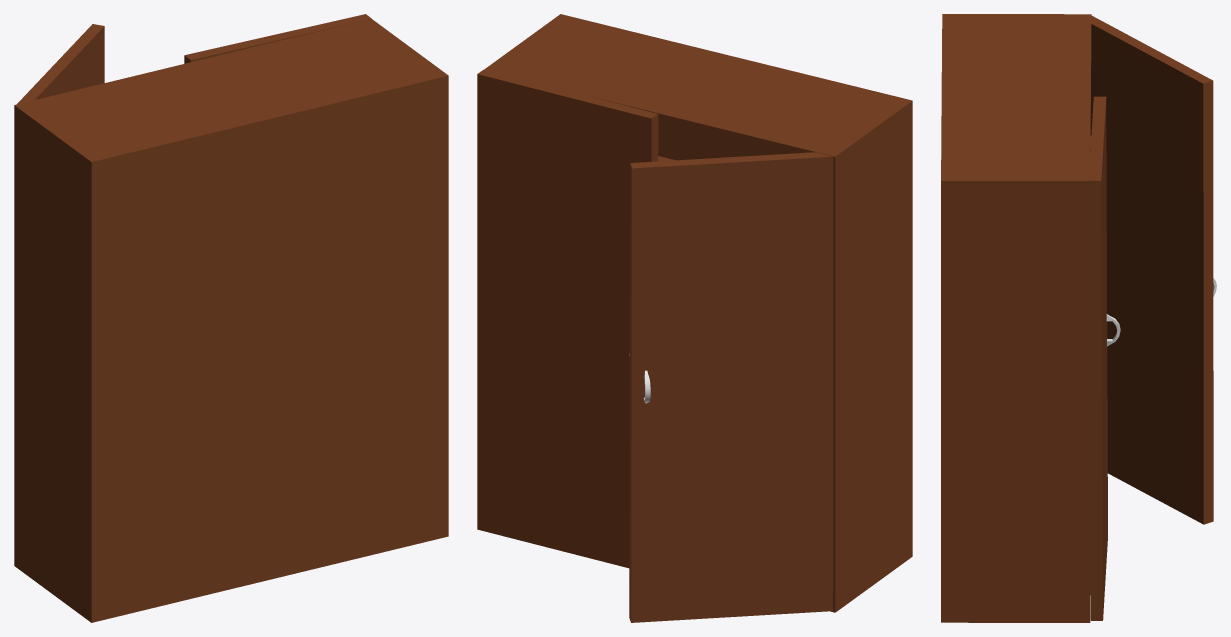
File: closet.fbx
3 views of the same model, side by side, from view 1: azimuth 30°, elevation 25°; view 2: azimuth 150°, elevation 25°; view 3: azimuth 270°, elevation 25° (orthographic). The views are drawn at different scales.
Parts seen in each view (by area): view 1: closet, L_door, R_door1; view 2: L_door, R_door1, closet; view 3: closet, L_door, R_door1.
Boxes of the visible parts, x1,y1,x2,y2 form: closet: (14, 19, 448, 622); L_door: (17, 24, 104, 104); R_door1: (184, 14, 371, 63); L_door: (629, 152, 833, 622); R_door1: (477, 69, 658, 568); closet: (484, 14, 912, 612); closet: (941, 14, 1091, 622); L_door: (1090, 16, 1216, 524); R_door1: (1088, 96, 1120, 620).
Bounding box in the file's own units: 5.93 × 7.32 × 4.14.
